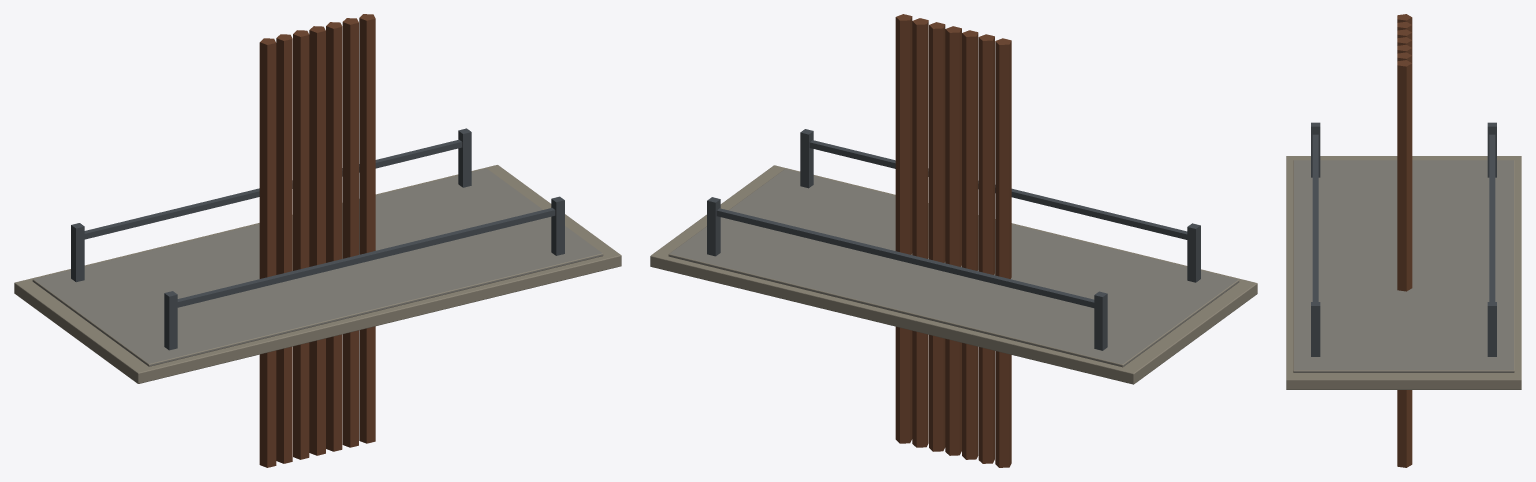
File: prp_pipe_supply.glb
3 views of the same model, side by side, from view 1: azimuth 30°, elevation 25°; view 2: azimuth 150°, elevation 25°; view 3: azimuth 270°, elevation 25° (orthographic). The views are drawn at different scales.
Visible parts, largest first — view 1: prp_pipe_supply; view 2: prp_pipe_supply; view 3: prp_pipe_supply.
Part boxes in pixels (<box>): prp_pipe_supply: <box>14,14,621,467</box>; prp_pipe_supply: <box>650,14,1257,467</box>; prp_pipe_supply: <box>1286,14,1521,467</box>.
Size of the model in its own units: 9 by 7.52 by 4.
